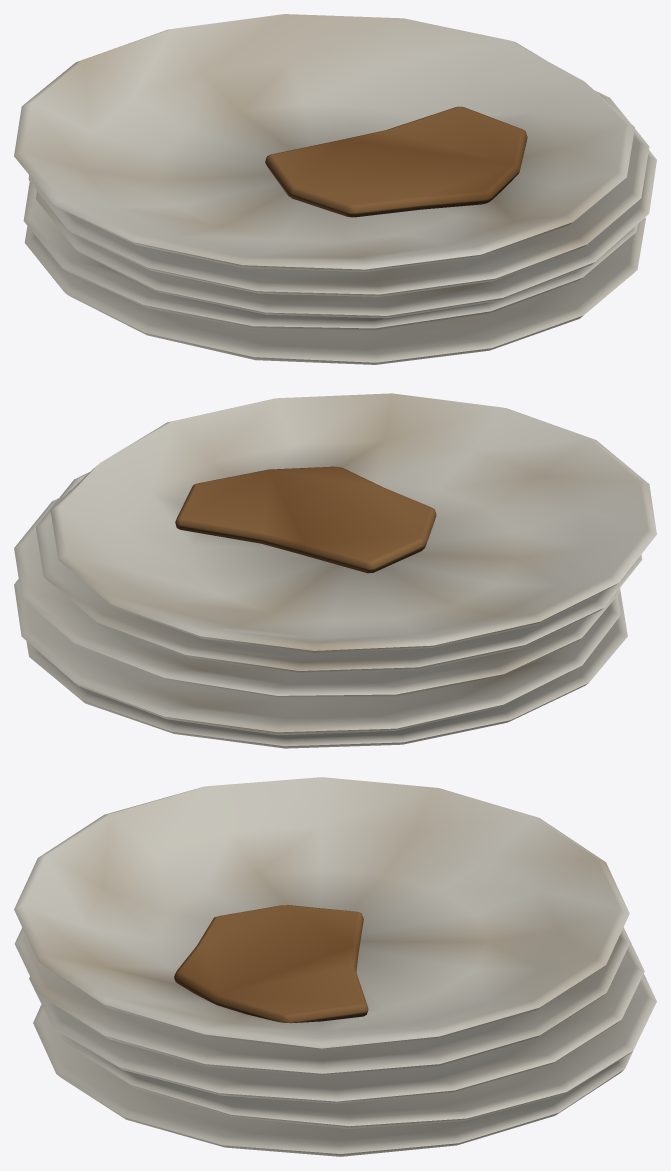
The model's file is kitchen_plate_stack.glb.
3 renders of one model, top to bottom at view 1: azimuth 30°, elevation 25°; view 2: azimuth 150°, elevation 25°; view 3: azimuth 270°, elevation 25°, orthographic. The views are drawn at different scales.
Visible parts, largest first — view 1: kitchen_plate_stack; view 2: kitchen_plate_stack; view 3: kitchen_plate_stack.
Part boxes in pixels (left/top/right/bottom): kitchen_plate_stack: left=14, top=14, right=656, bottom=364; kitchen_plate_stack: left=14, top=393, right=656, bottom=748; kitchen_plate_stack: left=14, top=777, right=656, bottom=1156.
Bounding box in the file's own units: 0.2744 × 0.0752 × 0.2715.
